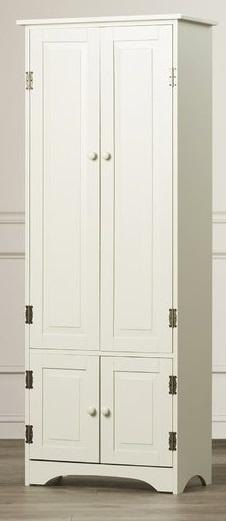cabinet_door: (103, 27, 174, 347), (28, 27, 98, 345), (103, 357, 174, 467), (27, 355, 99, 460)
handle: (86, 146, 98, 168), (101, 146, 112, 168), (84, 404, 98, 421), (101, 404, 112, 422)
